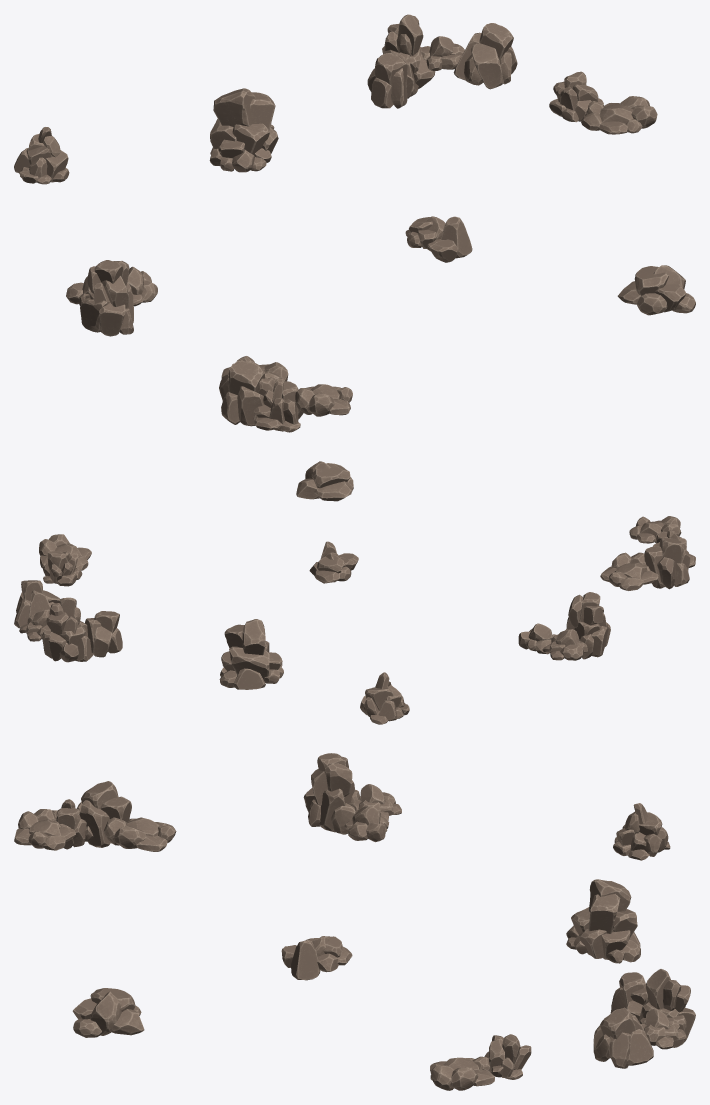
File: NEW ROCKS.fbx
3 renders of one model, top to bottom at view 1: azimuth 30°, elevation 25°; view 2: azimuth 150°, elevation 25°; view 3: azimuth 270°, elevation 25°, orthographic. The views are drawn at different scales.
Visible parts, largest first — view 1: Stylized_rocks:Desert_Rock_Group7, Stylized_rocks:Desert_Rock_Group4, Stylized_rocks:Desert_Rock_Group13, Desert_Rock_Group8, Stylized_rocks:Desert_Rock_Group14, Desert_Rock_Group12, Stylized_rocks:Desert_Rock_Group3, Stylized_rocks:Desert_Rock_Group12, Stylized_rocks:Desert_Rock_Group6, Stylized_rocks:Desert_Rock_Group2, Stylized_rocks:Desert_Rock_Group1, Stylized_rocks:Desert_Rock_Group9 (+4 smaller); view 2: Stylized_rocks:Desert_Rock_Group7, Stylized_rocks:Desert_Rock_Group6, Stylized_rocks:Desert_Rock_Group4, Stylized_rocks:Desert_Rock_Group14, Desert_Rock_Group8, Stylized_rocks:Desert_Rock_Group3, Desert_Rock_Group9, Stylized_rocks:Desert_Rock_Group12, Stylized_rocks:Desert_Rock_Group13, Stylized_rocks:Desert_Rock_Group1, Stylized_rocks:Desert_Rock_Group8, Stylized_rocks:Desert_Rock_Group11 (+4 smaller); view 3: Stylized_rocks:Desert_Rock_Group7, Stylized_rocks:Desert_Rock_Group4, Desert_Rock_Group8, Stylized_rocks:Desert_Rock_Group13, Stylized_rocks:Desert_Rock_Group3, Stylized_rocks:Desert_Rock_Group6, Stylized_rocks:Desert_Rock_Group14, Desert_Rock_Group9, Stylized_rocks:Desert_Rock_Group9, Desert_Rock_Group12, Stylized_rocks:Desert_Rock_Group1, Desert_Rock_Group11 (+6 smaller).
Boxes of the visible parts, <box> form: Stylized_rocks:Desert_Rock_Group7: <box>209,88,278,172</box>; Stylized_rocks:Desert_Rock_Group4: <box>80,260,133,336</box>; Stylized_rocks:Desert_Rock_Group13: <box>453,23,517,89</box>; Desert_Rock_Group8: <box>617,265,695,315</box>; Stylized_rocks:Desert_Rock_Group14: <box>219,360,276,426</box>; Desert_Rock_Group12: <box>581,96,657,134</box>; Stylized_rocks:Desert_Rock_Group3: <box>14,127,69,184</box>; Stylized_rocks:Desert_Rock_Group12: <box>367,52,413,108</box>; Stylized_rocks:Desert_Rock_Group6: <box>382,14,435,96</box>; Stylized_rocks:Desert_Rock_Group2: <box>253,379,303,432</box>; Stylized_rocks:Desert_Rock_Group1: <box>549,71,603,122</box>; Stylized_rocks:Desert_Rock_Group9: <box>295,384,352,416</box>; Stylized_rocks:Desert_Rock_Group7: <box>219,619,283,689</box>; Stylized_rocks:Desert_Rock_Group6: <box>42,597,93,662</box>; Stylized_rocks:Desert_Rock_Group4: <box>565,592,610,659</box>; Stylized_rocks:Desert_Rock_Group14: <box>644,537,690,589</box>; Desert_Rock_Group8: <box>296,461,353,501</box>; Stylized_rocks:Desert_Rock_Group3: <box>360,672,409,724</box>; Desert_Rock_Group9: <box>600,552,658,590</box>; Stylized_rocks:Desert_Rock_Group12: <box>85,611,122,657</box>; Stylized_rocks:Desert_Rock_Group13: <box>14,580,60,628</box>; Stylized_rocks:Desert_Rock_Group1: <box>43,551,82,586</box>; Stylized_rocks:Desert_Rock_Group8: <box>309,552,353,583</box>; Stylized_rocks:Desert_Rock_Group11: <box>542,629,587,660</box>; Stylized_rocks:Desert_Rock_Group7: <box>566,879,640,963</box>; Stylized_rocks:Desert_Rock_Group4: <box>303,753,359,834</box>; Desert_Rock_Group8: <box>72,988,144,1037</box>; Stylized_rocks:Desert_Rock_Group13: <box>593,1007,653,1068</box>; Stylized_rocks:Desert_Rock_Group3: <box>613,803,670,860</box>; Stylized_rocks:Desert_Rock_Group6: <box>639,969,695,1047</box>; Stylized_rocks:Desert_Rock_Group14: <box>77,781,131,847</box>; Desert_Rock_Group9: <box>103,817,176,851</box>; Stylized_rocks:Desert_Rock_Group9: <box>14,809,75,850</box>; Desert_Rock_Group12: <box>430,1056,494,1090</box>; Stylized_rocks:Desert_Rock_Group1: <box>484,1034,531,1079</box>; Desert_Rock_Group11: <box>641,1008,686,1049</box>.
Size of the model in its own units: 1895 by 243 by 1824.
Materials: 1 (1 with a texture image).
